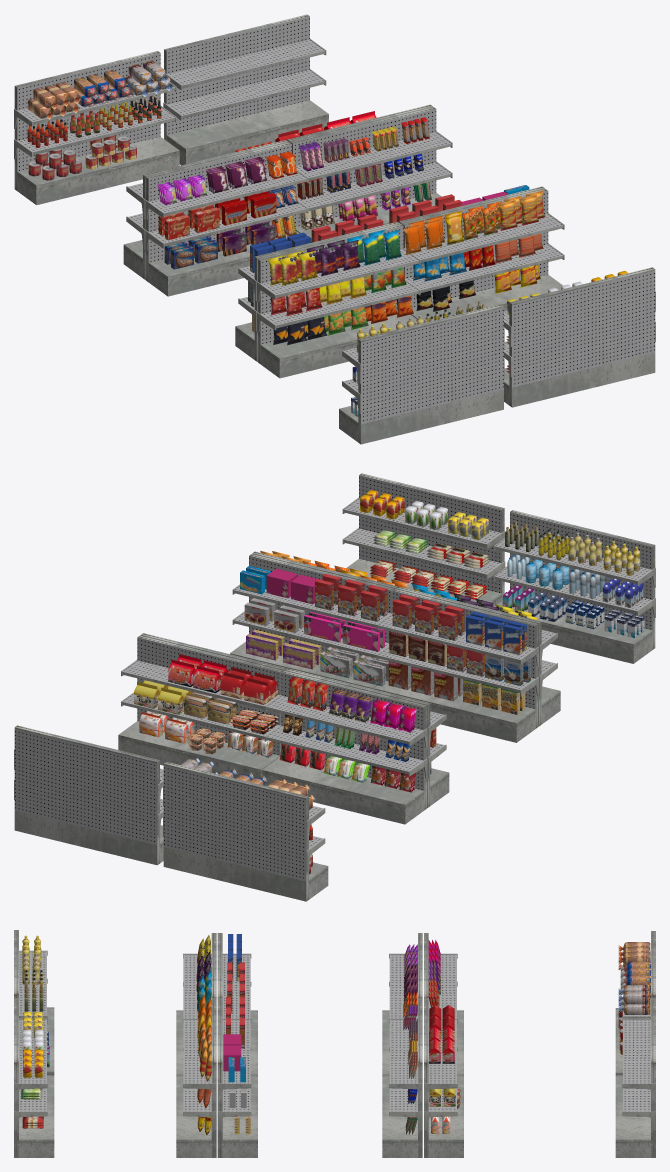
The model's file is optimized_shelf.glb.
3 views of the same model, one above another, from view 1: azimuth 30°, elevation 25°; view 2: azimuth 150°, elevation 25°; view 3: azimuth 270°, elevation 25° (orthographic). The views are drawn at different scales.
Parts seen in each view (by area): view 1: Shelving.006_Shelving_0; view 2: Shelving.006_Shelving_0; view 3: Shelving.006_Shelving_0.
Boxes of the visible parts, x1,y1,x2,y2 form: Shelving.006_Shelving_0: (14, 14, 655, 444); Shelving.006_Shelving_0: (14, 473, 655, 901); Shelving.006_Shelving_0: (14, 930, 655, 1157).
Bounding box in the file's own units: 4.91 × 1.68 × 10.
6 materials, 6 textured.
